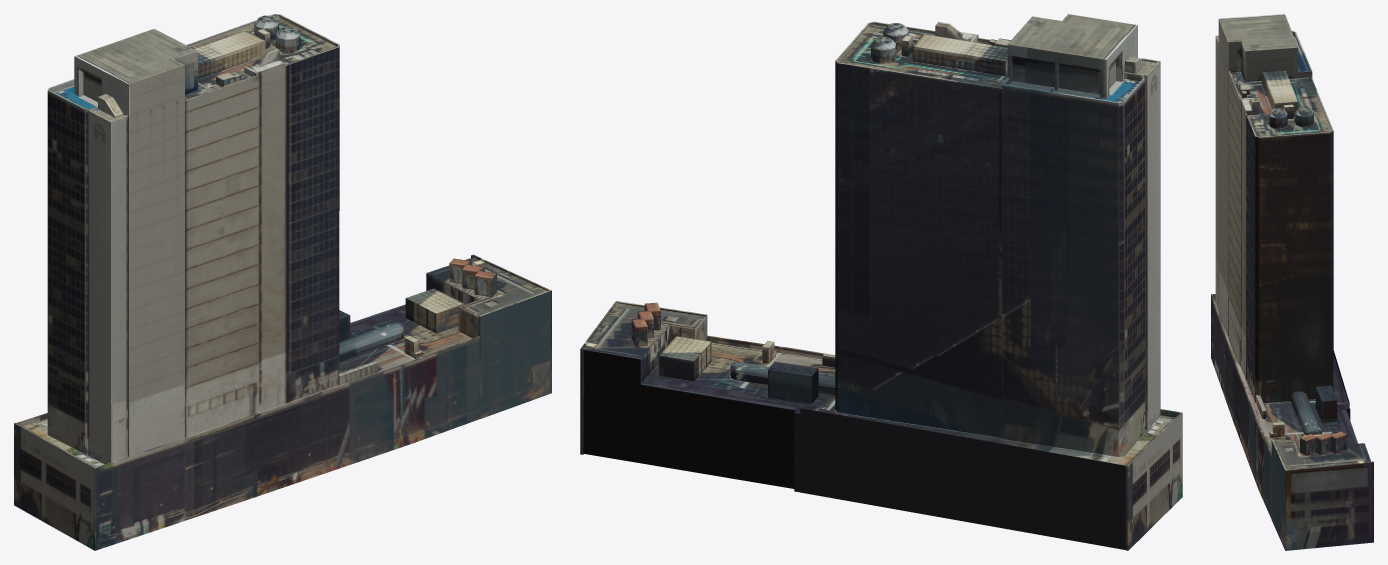
3 views of the same model, side by side, from view 1: azimuth 30°, elevation 25°; view 2: azimuth 150°, elevation 25°; view 3: azimuth 270°, elevation 25° (orthographic). The views are drawn at different scales.
Visible parts, largest first — view 1: 19_0.glb; view 2: 19_0.glb; view 3: 19_0.glb.
Boxes of the visible parts, box(x1,y1,x2,y2) form: 19_0.glb: box(14, 14, 551, 550); 19_0.glb: box(580, 14, 1182, 550); 19_0.glb: box(1211, 14, 1373, 550).
Bounding box in the file's own units: 100 × 83.82 × 34.85.
Materials: 1 (1 with a texture image).
